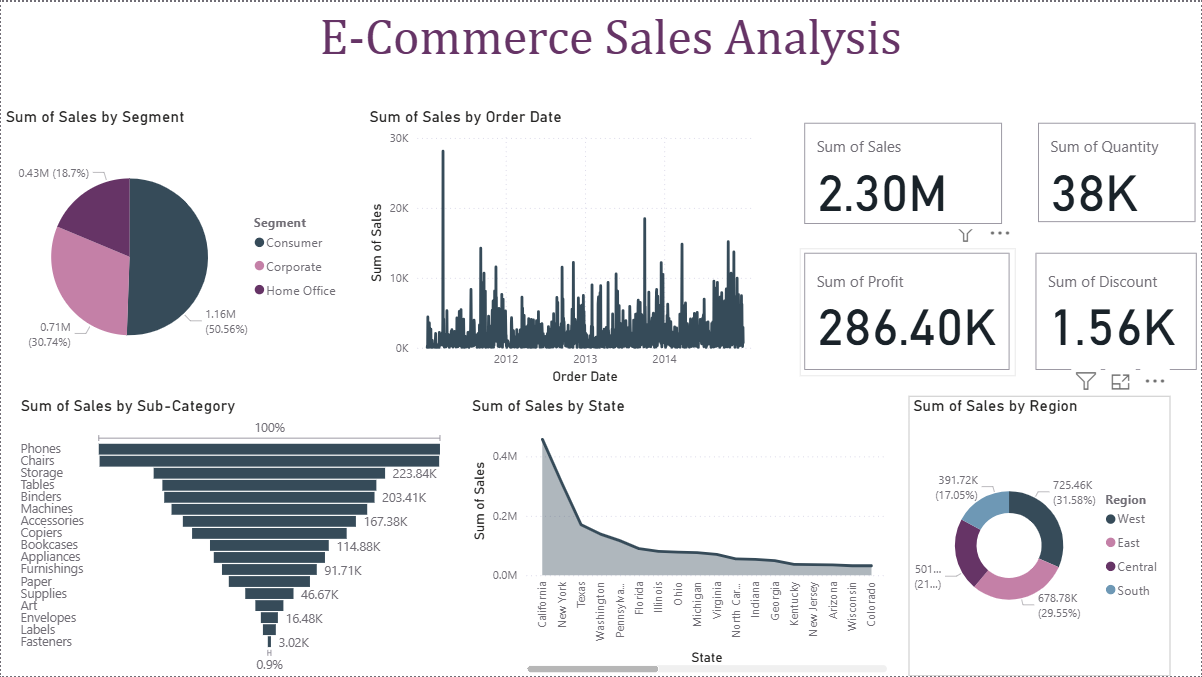

What the dashboard file says about the page in this screenshot:
{"tool":"powerbi","page":{"name":"Page 1","canvas":[1280,720],"ordinal":0},"visuals":[{"type":"donutChart","fields":{"Category":["Orders.Region"],"Y":["Sum(Orders.Sales)"]},"box":[967.4,419.9,279.9,300.5],"z":0},{"type":"areaChart","fields":{"Category":["Orders.State"],"Y":["Sum(Orders.Sales)"]},"box":[496.7,419.9,452.8,300.5],"z":2},{"type":"funnel","fields":{"Category":["Orders.Sub-Category"],"Y":["Sum(Orders.Sales)"]},"box":[16.5,419.9,462.4,300.5],"z":3},{"type":"pieChart","fields":{"Category":["Orders.Segment"],"Y":["Sum(Orders.Sales)"]},"box":[0,112.5,371.7,300.8],"z":4},{"type":"lineChart","fields":{"Category":["Orders.Order Date"],"Y":["Sum(Orders.Sales)"]},"box":[387.6,112.5,421.9,300.8],"z":5},{"type":"cardVisual","fields":{"Data":["Sum(Orders.Profit)"]},"box":[852.3,262.9,229.9,135.7],"z":6},{"type":"cardVisual","fields":{"Data":["Sum(Orders.Sales)"]},"box":[852.3,123.5,221.3,118.6],"z":7},{"type":"cardVisual","fields":{"Data":["Sum(Orders.Quantity)","select"]},"box":[1101.8,123.5,178.5,116.2],"z":8},{"type":"cardVisual","fields":{"Data":["Sum(Orders.Discount)"]},"box":[1098.1,262.9,182.2,135.7],"z":9},{"type":"textbox","box":[100.3,0,1100.5,91.7],"z":10}]}

Visuals, with their boxes in screenshot pixels (x1, y1, x2, y2), scaled from the page's 1280x720 canvas onto the 1202x677 screenshot:
donutChart - Orders.Region x Sum(Orders.Sales): <region>908, 395, 1171, 676</region>
areaChart - Orders.State x Sum(Orders.Sales): <region>466, 395, 892, 676</region>
funnel - Orders.Sub-Category x Sum(Orders.Sales): <region>15, 395, 450, 676</region>
pieChart - Orders.Segment x Sum(Orders.Sales): <region>0, 106, 349, 389</region>
lineChart - Orders.Order Date x Sum(Orders.Sales): <region>364, 106, 760, 389</region>
cardVisual - Sum(Orders.Profit): <region>800, 247, 1016, 375</region>
cardVisual - Sum(Orders.Sales): <region>800, 116, 1008, 228</region>
cardVisual - Sum(Orders.Quantity) x select: <region>1035, 116, 1201, 225</region>
cardVisual - Sum(Orders.Discount): <region>1031, 247, 1201, 375</region>
textbox: <region>94, 0, 1128, 86</region>
